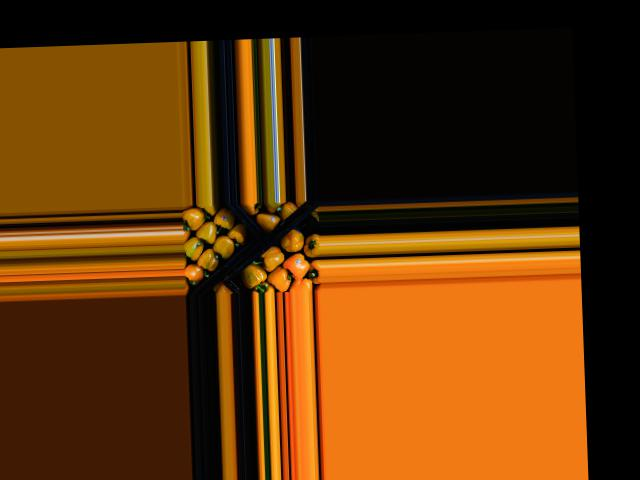bell_pepper: (182, 203, 210, 227)
